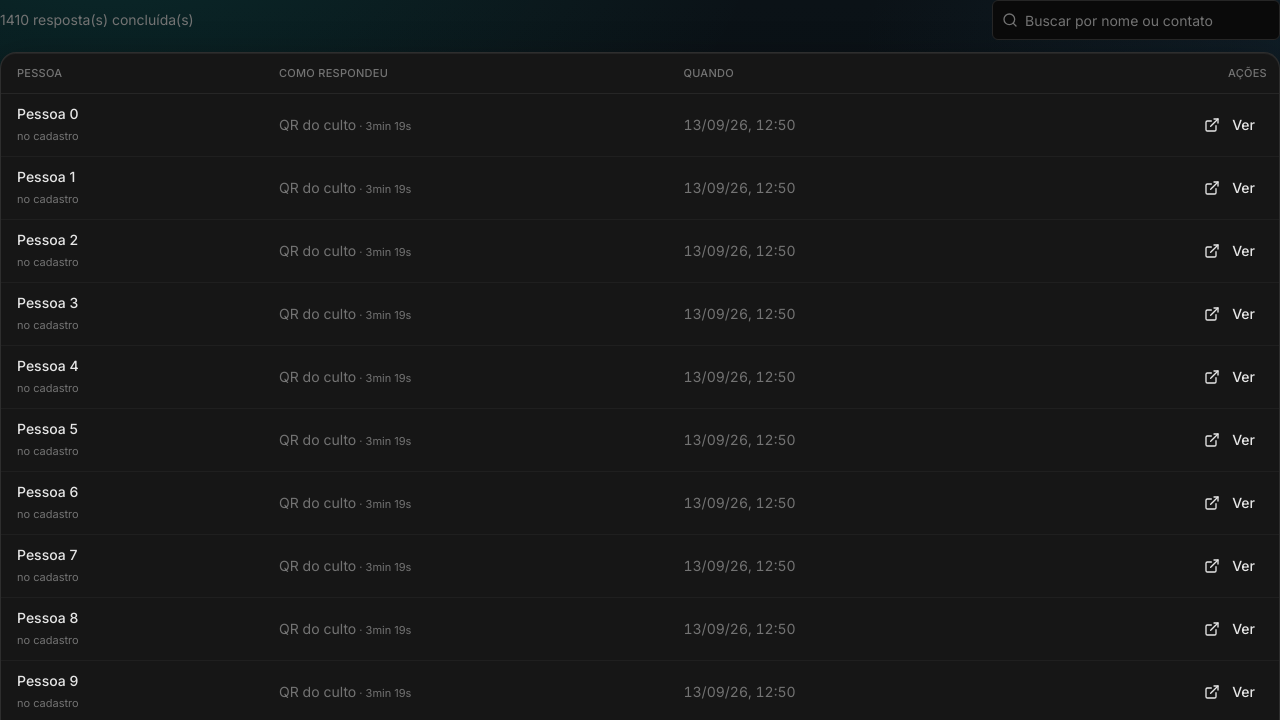
AbaRespostas · o total é do banco, a página tem 50 › acha quem está DEPOIS das mil primeiras (o buraco de 24/09)
The image size is (1280, 720).
Type "juliane" into the field with placeholder "Buscar por nome ou contato" at point(1136, 20), box [992, 0, 1279, 40]
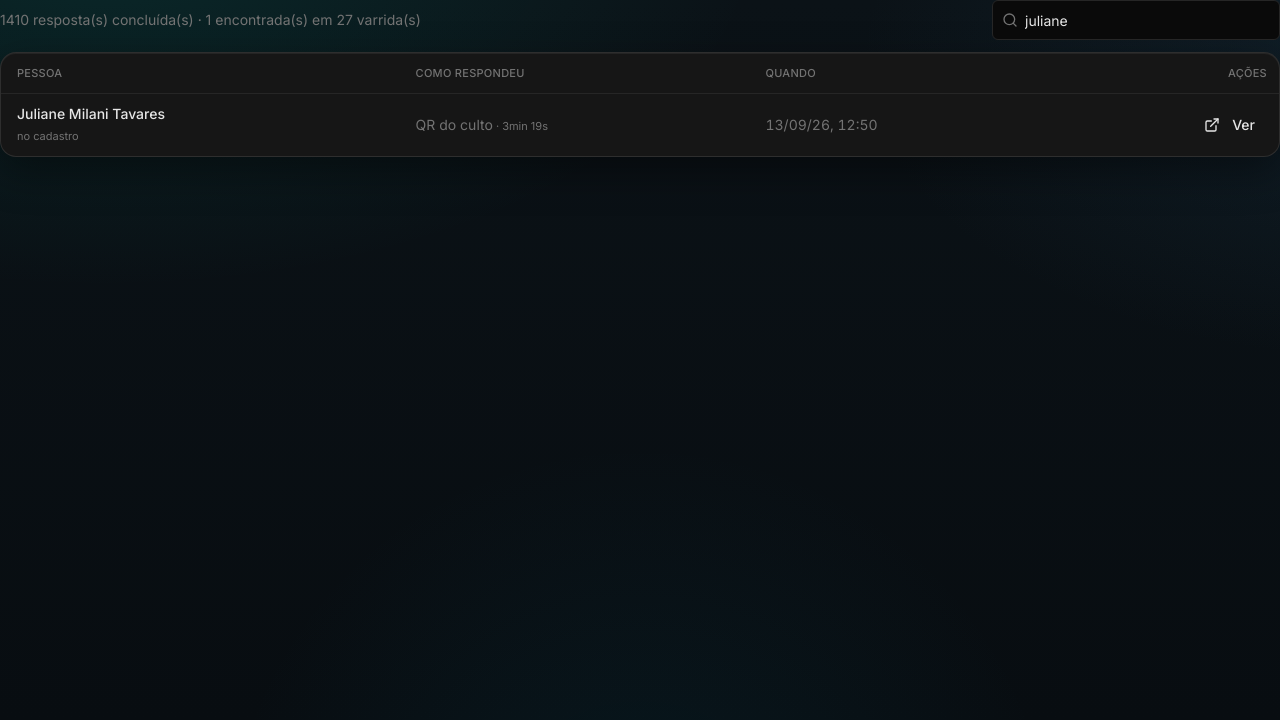
Expected: the button "Juliane Milani Tavares" is shown, [17, 104, 165, 124]
